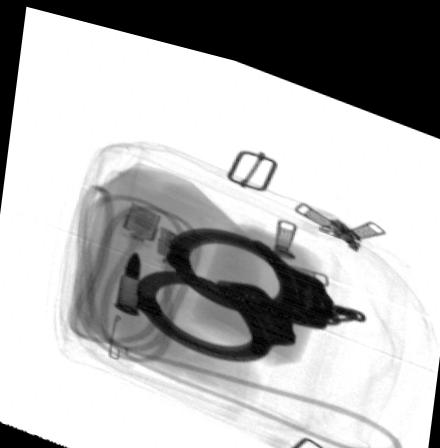Bullet: (114, 245, 143, 309)
HandCuffs: (128, 216, 364, 348)
